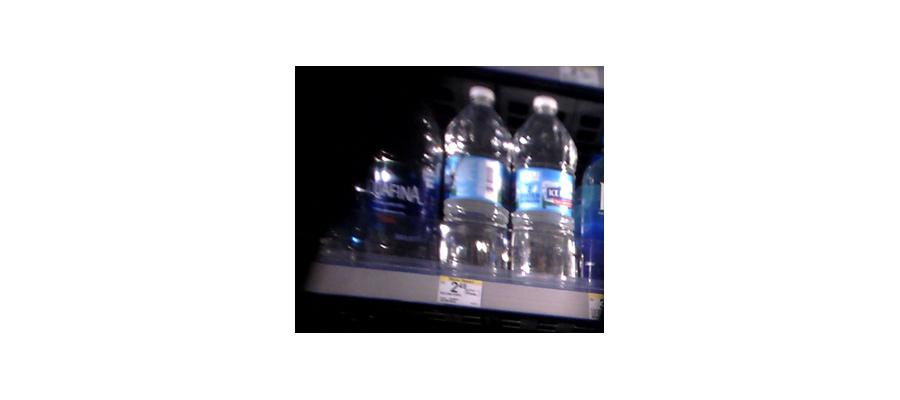bottle: (442, 85, 510, 279), (512, 95, 576, 285), (364, 97, 436, 262)
